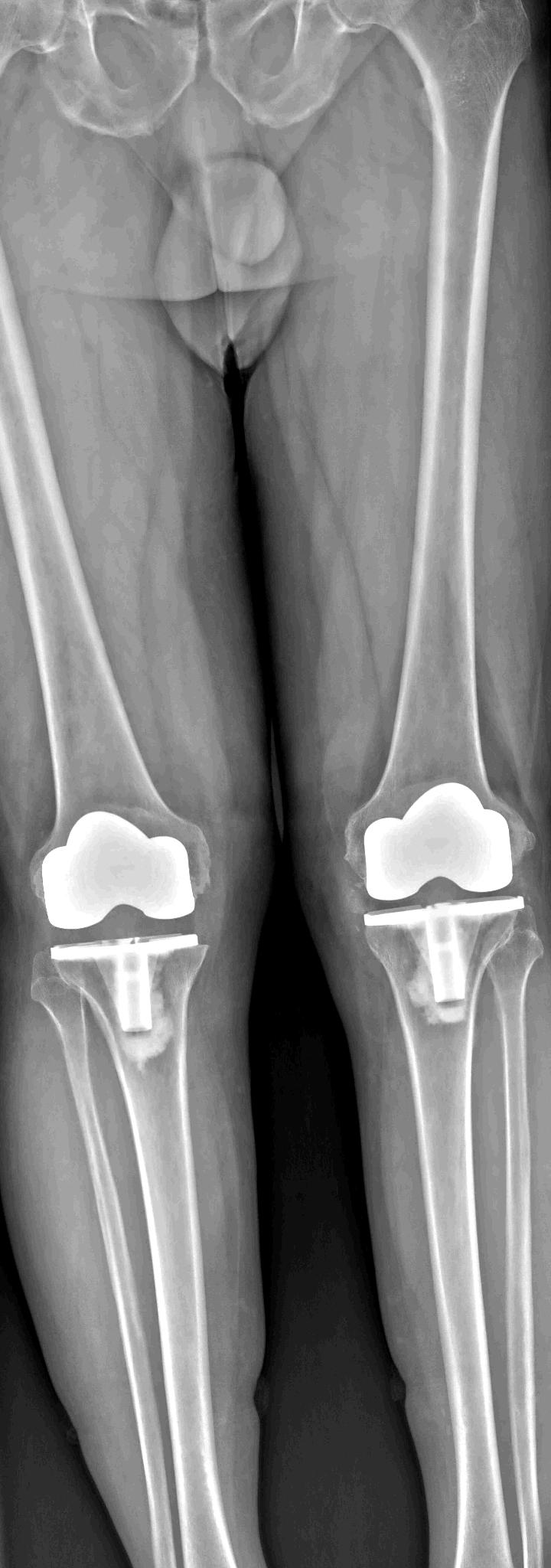Leg Fibula: (32, 959, 176, 1568), (489, 916, 542, 1568)
Leg Tibia: (52, 935, 235, 1568), (366, 899, 519, 1568)
femur: (347, 0, 529, 904), (0, 247, 209, 927), (0, 0, 62, 75)
